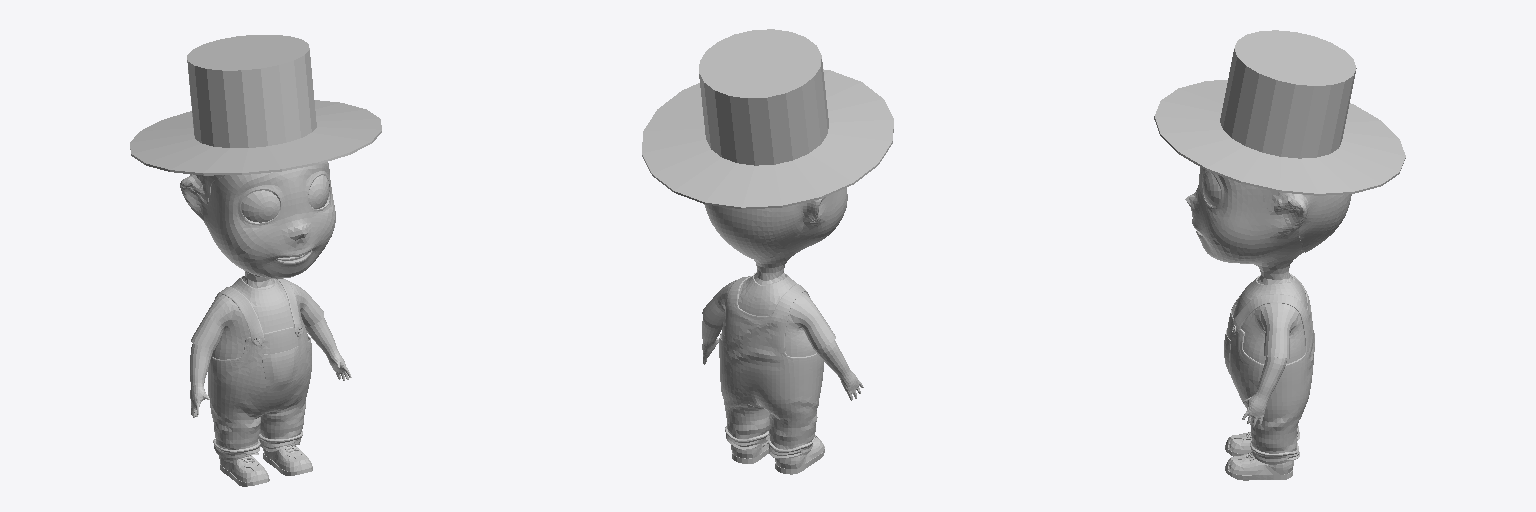
3 views of the same model, side by side, from view 1: azimuth 30°, elevation 25°; view 2: azimuth 150°, elevation 25°; view 3: azimuth 270°, elevation 25° (orthographic).
Parts seen in each view (by area): view 1: hat_red_메쉬.025, Body_메쉬.010, jeans_메쉬.004, T_shirt_in_메쉬.020, cloth_01_메쉬.021, R_eye_메쉬.012, R_shoe_p1_메쉬.008, L_shoe_p1_메쉬.023, L_eye_메쉬.013; view 2: hat_red_메쉬.025, jeans_메쉬.004, T_shirt_in_메쉬.020, Body_메쉬.010, Hairs_메쉬.011, R_shoe_p1_메쉬.008; view 3: hat_red_메쉬.025, Body_메쉬.010, jeans_메쉬.004, T_shirt_in_메쉬.020, Hairs_메쉬.011, L_shoe_p1_메쉬.023.
Part boxes in pixels (x1,y1,x2,y2): hat_red_메쉬.025: (130,35,381,175); Body_메쉬.010: (180,162,351,417); jeans_메쉬.004: (208,278,311,449); T_shirt_in_메쉬.020: (191,276,323,359); cloth_01_메쉬.021: (262,346,298,390); R_eye_메쉬.012: (241,190,279,222); R_shoe_p1_메쉬.008: (219,455,268,482); L_shoe_p1_메쉬.023: (263,446,312,471); L_eye_메쉬.013: (308,175,329,208); hat_red_메쉬.025: (642,29,893,209); jeans_메쉬.004: (719,276,823,449); T_shirt_in_메쉬.020: (702,272,835,356); Body_메쉬.010: (702,188,863,400); Hairs_메쉬.011: (704,203,804,259); R_shoe_p1_메쉬.008: (775,435,824,468); hat_red_메쉬.025: (1154,30,1405,195); Body_메쉬.010: (1185,167,1308,426); jeans_메쉬.004: (1227,276,1314,453); T_shirt_in_메쉬.020: (1233,274,1307,364); Hairs_메쉬.011: (1259,188,1351,252); L_shoe_p1_메쉬.023: (1226,453,1293,474).
Bounding box in the file's own units: 0.5105 × 0.9158 × 0.5035.